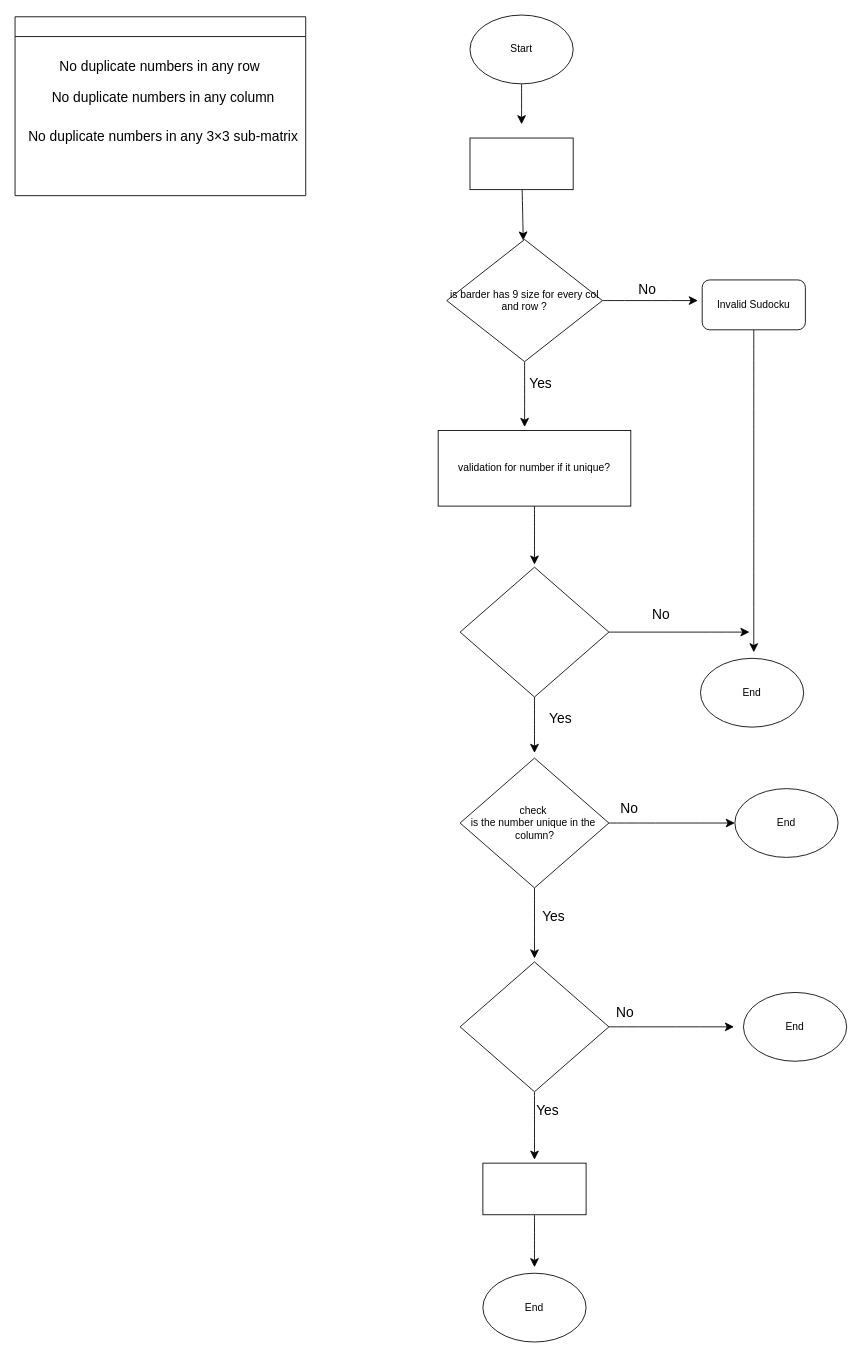
The diagram is 862 pixels wide and 1357 high, and some of its shapes have lost their labels. The shapes that lost their labels are listed below. From the top down, each one's box as (x1, y1, x2, y2) in pixels, then its label:
(14, 16, 306, 196): Valid Sudock
(469, 137, 573, 190): Board with n size
(459, 566, 609, 697): check is the number unique in the row?
(459, 961, 609, 1092): Number is unique submatrix 3*3?
(482, 1162, 586, 1215): Valid Sudocku
